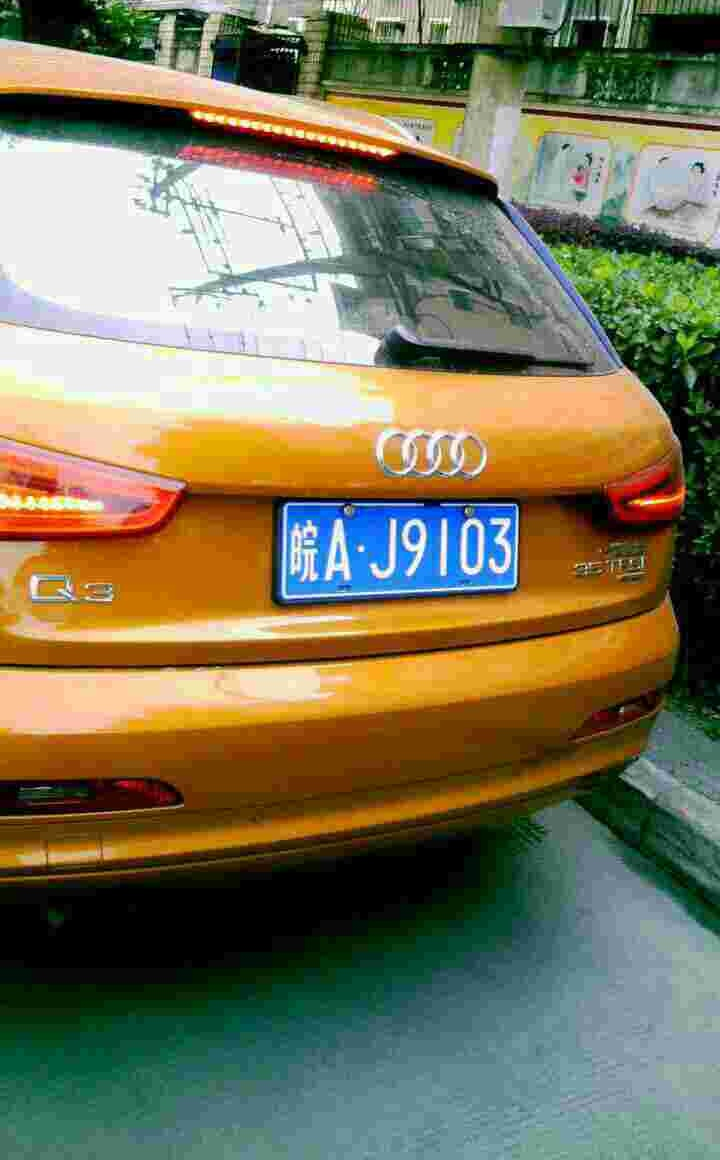plate: (289, 495, 532, 601)
